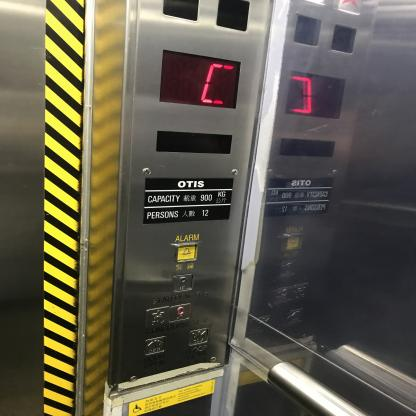C: (168, 302, 191, 323)
P: (172, 272, 194, 294)
alarm: (172, 242, 198, 262)
close: (186, 327, 209, 347)
led: (155, 45, 243, 109), (154, 127, 234, 156)
open: (143, 335, 166, 356)
s: (144, 305, 170, 329)
